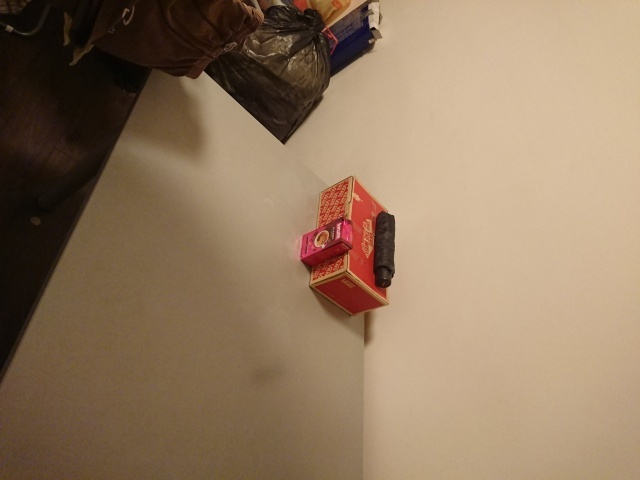Barcaffe Classic Original 225g: (298, 215, 354, 268)
